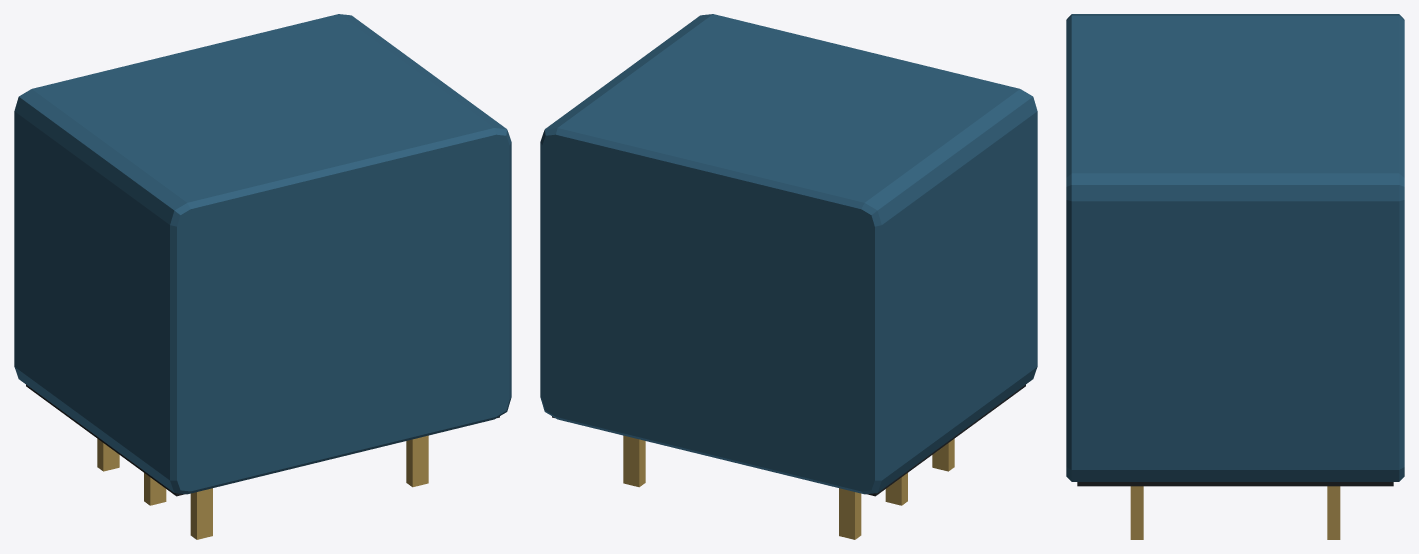
File: cmp-relay.glb
3 views of the same model, side by side, from view 1: azimuth 30°, elevation 25°; view 2: azimuth 150°, elevation 25°; view 3: azimuth 270°, elevation 25° (orthographic). The views are drawn at different scales.
Visible parts, largest first — view 1: STATIC_paint, STATIC_metal; view 2: STATIC_paint, STATIC_metal; view 3: STATIC_paint, STATIC_metal.
Part boxes in pixels (x1=…): STATIC_paint: x1=14, y1=14, x2=511, y2=496; STATIC_metal: x1=97, y1=435, x2=428, y2=539; STATIC_paint: x1=540, y1=14, x2=1037, y2=496; STATIC_metal: x1=623, y1=435, x2=954, y2=539; STATIC_paint: x1=1066, y1=14, x2=1404, y2=486; STATIC_metal: x1=1130, y1=486, x2=1340, y2=539.
Bounding box in the file's own units: 0.019 × 0.0195 × 0.0155.
